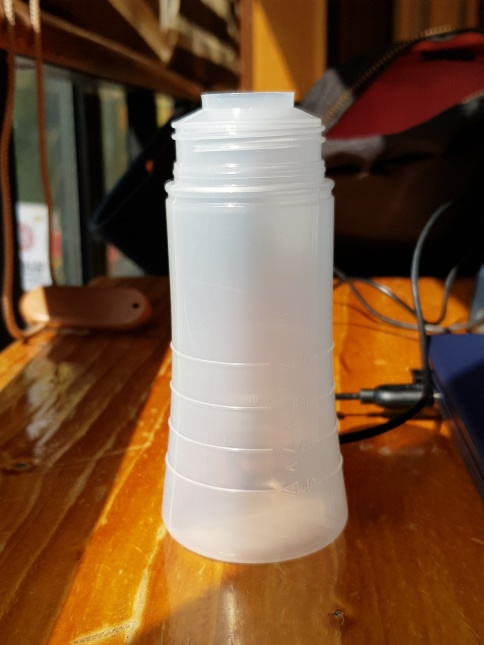Plastic: (153, 86, 356, 569)
